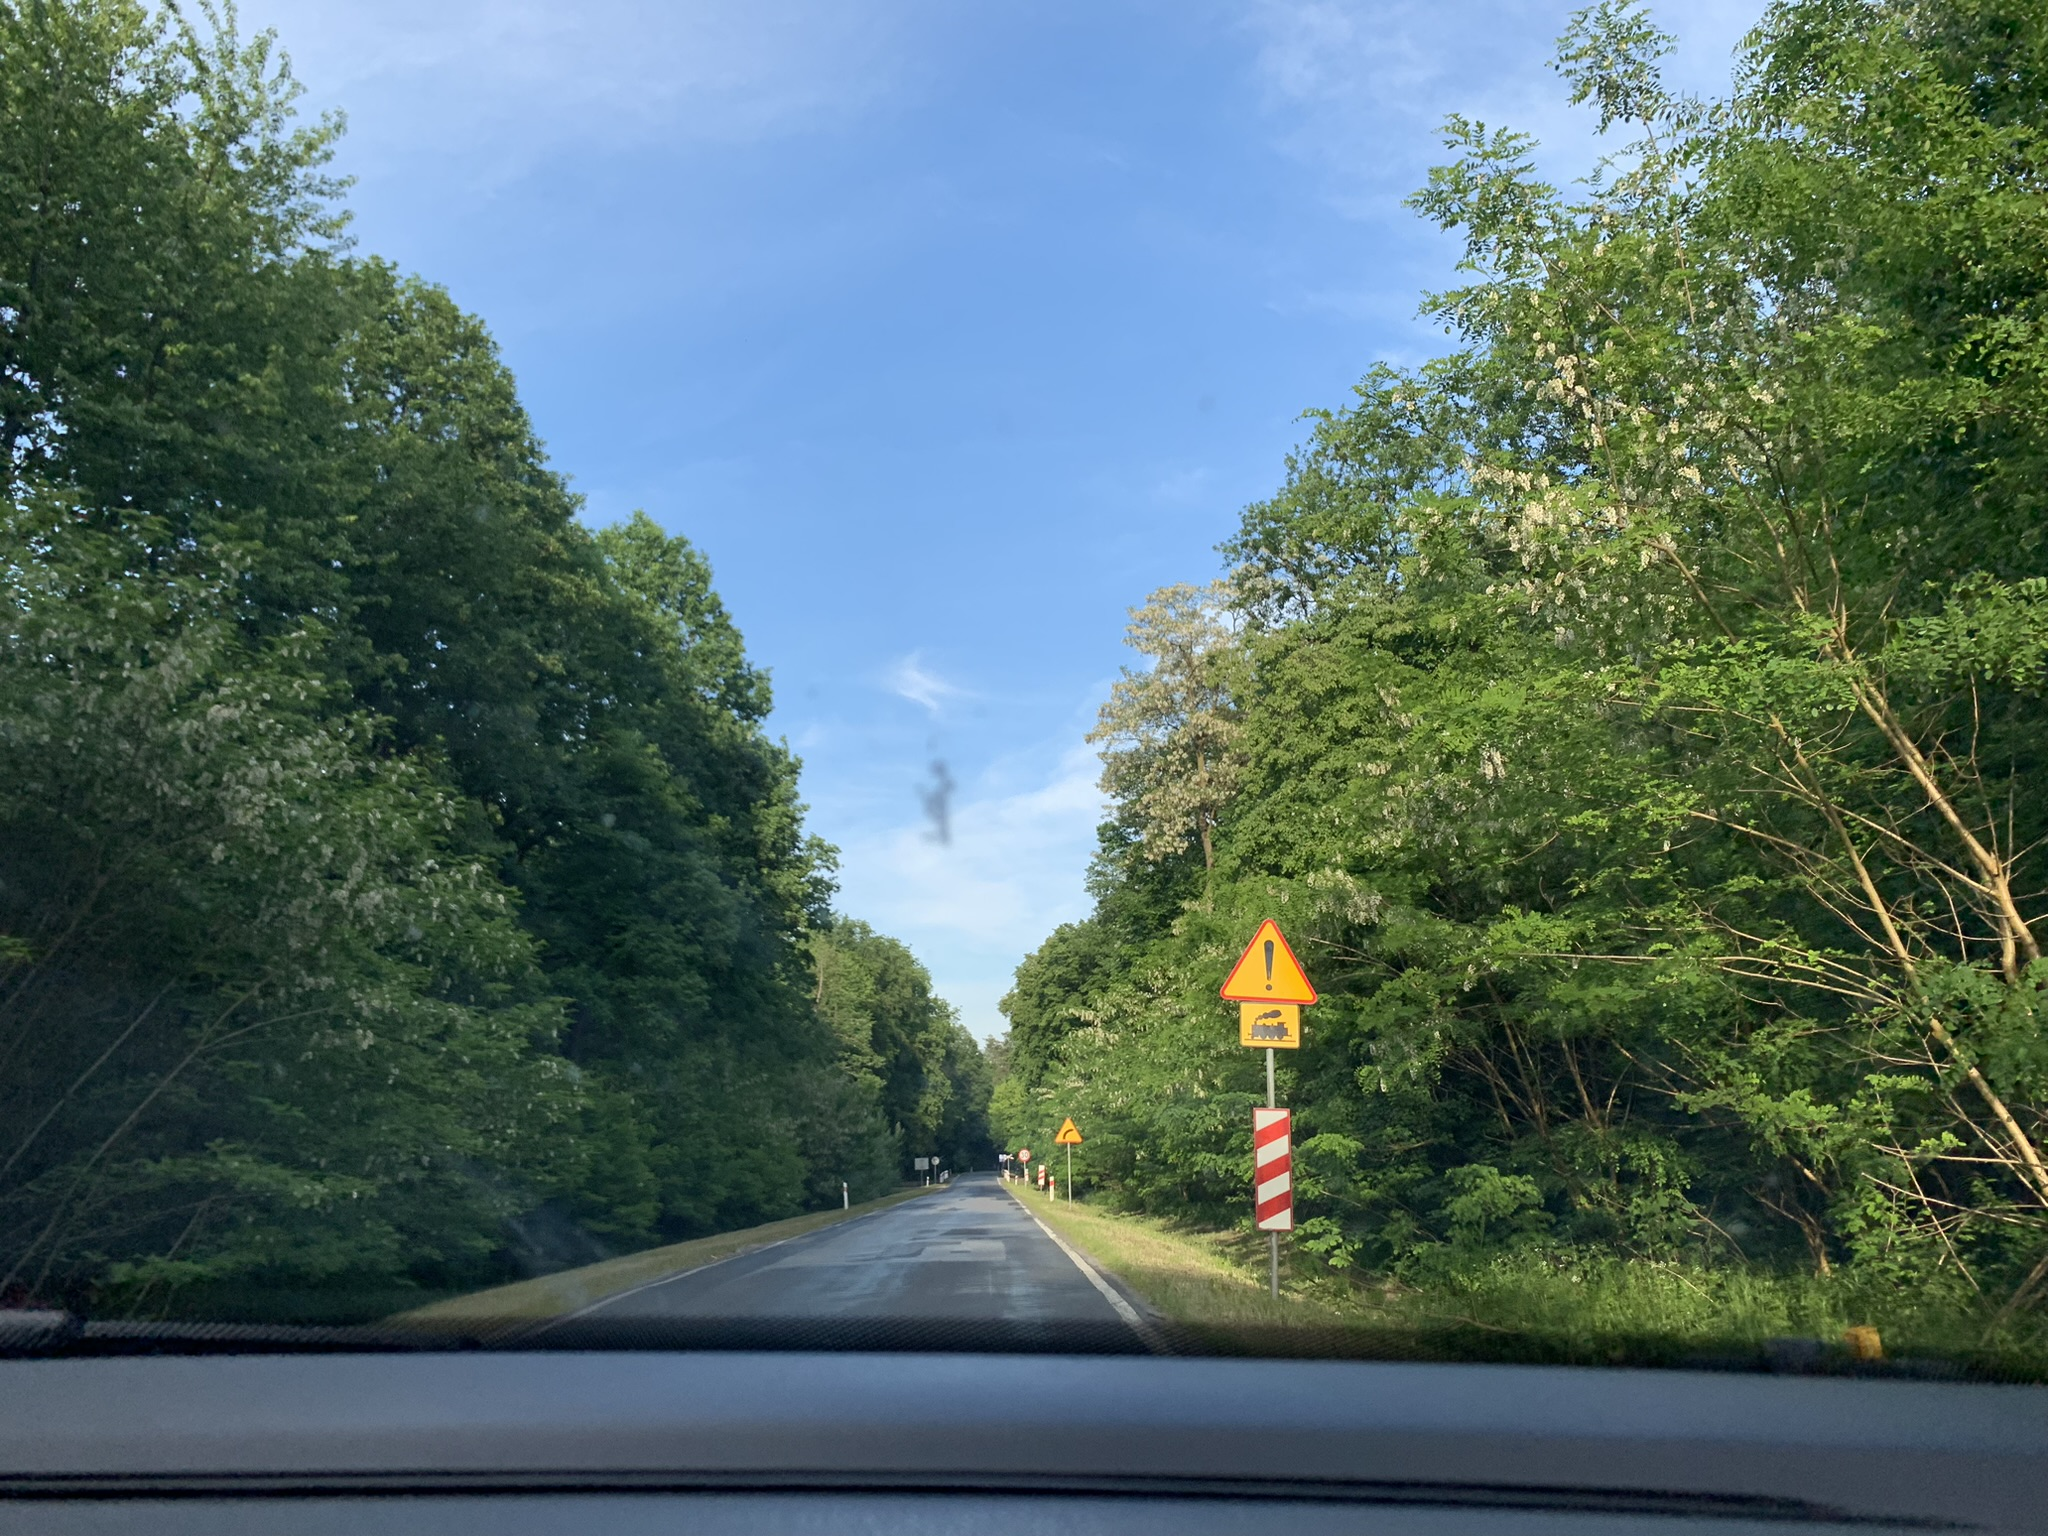t10: (1226, 918, 1313, 1057)
